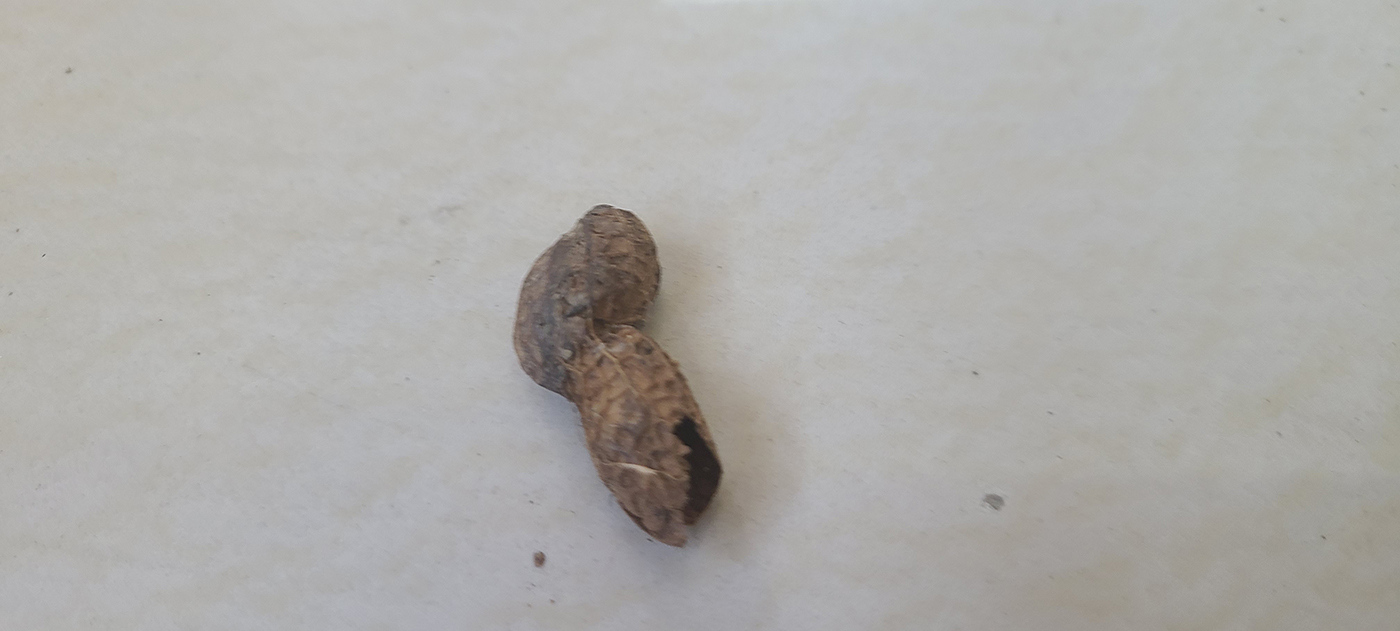l: (511, 204, 726, 549)
